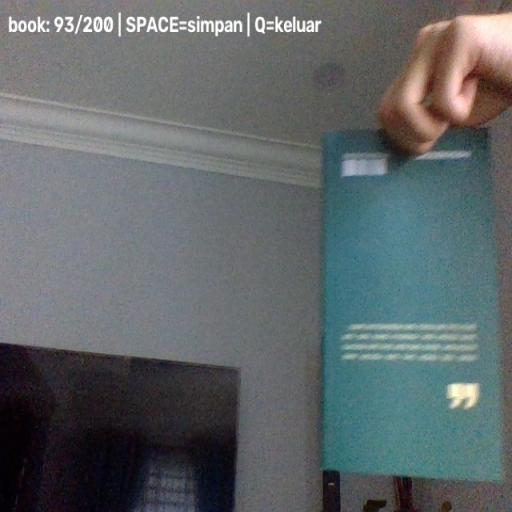Book: (321, 128, 504, 481)
